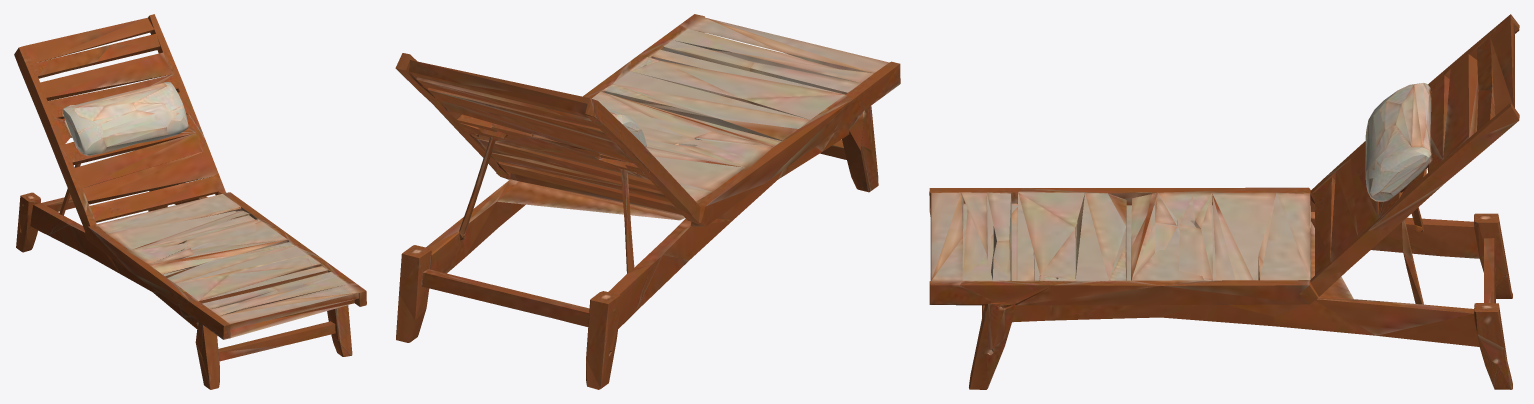
Rendered from sun_lounger_low.glb.
The picture shows the model from 3 angles, left to right: view 1: azimuth 30°, elevation 25°; view 2: azimuth 150°, elevation 25°; view 3: azimuth 270°, elevation 25°; orthographic projection. The views are drawn at different scales.
Visible parts, largest first — view 1: sun_lounger; view 2: sun_lounger; view 3: sun_lounger.
Part boxes in pixels (x1,y1,x2,y2): sun_lounger: [14, 14, 366, 389]; sun_lounger: [395, 14, 900, 389]; sun_lounger: [929, 14, 1519, 389].
Size of the model in its own units: 0.796 by 1.05 by 2.
Materials: 1 (1 with a texture image).
